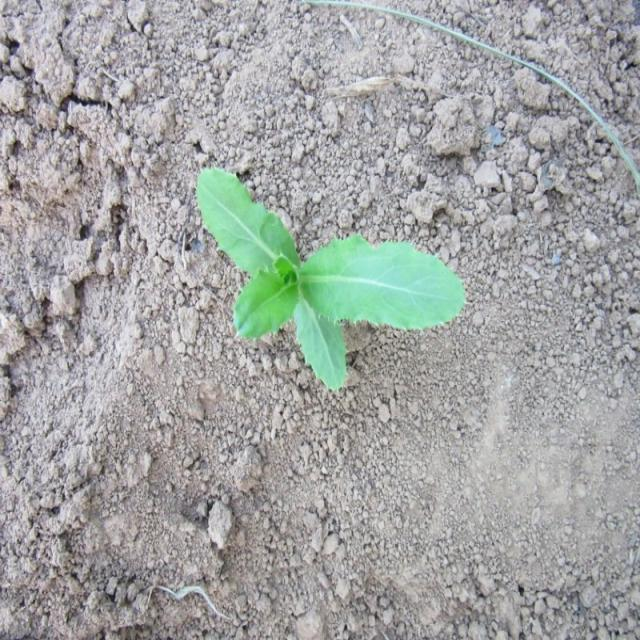cs: (195, 164, 470, 398)
